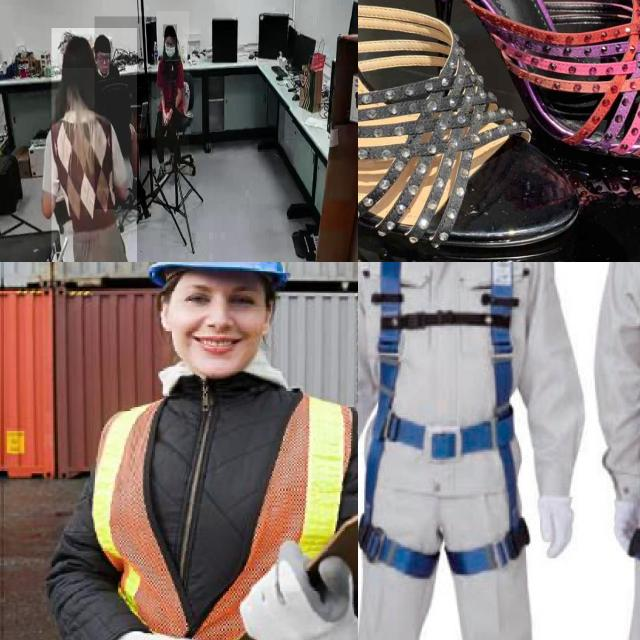Harness: (358, 262, 530, 580)
No_Ear-Protection: (262, 299, 277, 339), (158, 296, 172, 331)
No_Glasses: (177, 284, 266, 313)
Sandals: (358, 0, 591, 256), (386, 0, 640, 180)
face_mask: (164, 33, 176, 59)
face_nomask: (169, 308, 265, 378), (96, 53, 110, 72)
hand_glove: (241, 541, 358, 640)
hand_noglove: (163, 110, 171, 125), (162, 110, 168, 126)
head_helmet: (148, 262, 288, 287)
head_nohelmet: (62, 34, 94, 69), (92, 33, 110, 51), (163, 24, 177, 38)
person: (51, 28, 137, 262), (94, 17, 152, 210), (156, 11, 190, 185)
